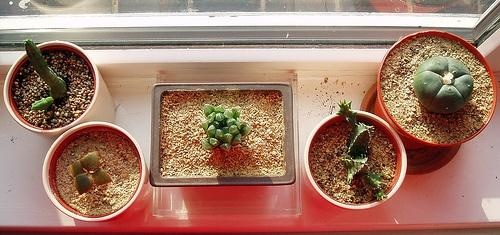pottedplant: (358, 30, 497, 175), (151, 82, 297, 188), (304, 101, 408, 211), (5, 39, 118, 139), (43, 121, 146, 222)
